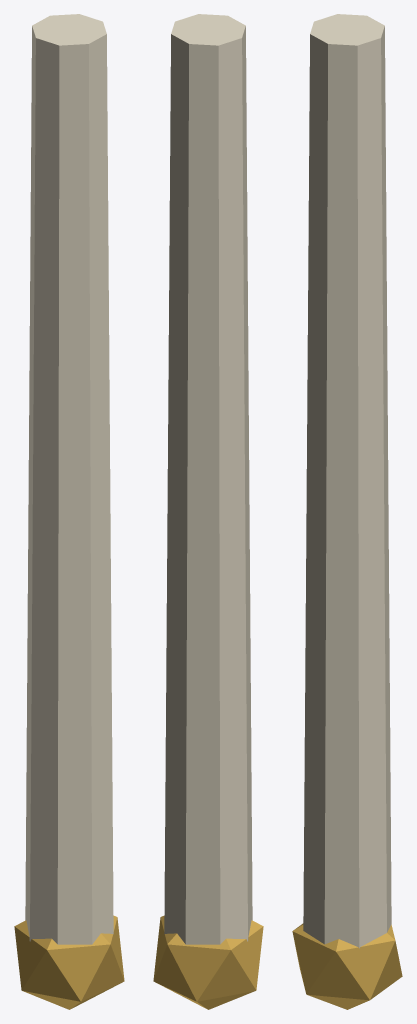
Rendered from wk_skeleton_spine_v01.glb.
3 renders of one model, left to right at view 1: azimuth 30°, elevation 25°; view 2: azimuth 150°, elevation 25°; view 3: azimuth 330°, elevation 25°, orthographic.
Visible parts, largest first — view 1: GEO_Skeleton_spine, GEO_Skeleton_spine_Joint; view 2: GEO_Skeleton_spine, GEO_Skeleton_spine_Joint; view 3: GEO_Skeleton_spine, GEO_Skeleton_spine_Joint.
Boxes of the visible parts, <box> form: GEO_Skeleton_spine: <box>25,14,113,944</box>; GEO_Skeleton_spine_Joint: <box>14,915,124,1009</box>; GEO_Skeleton_spine: <box>164,14,252,944</box>; GEO_Skeleton_spine_Joint: <box>153,915,263,1009</box>; GEO_Skeleton_spine: <box>303,14,391,948</box>; GEO_Skeleton_spine_Joint: <box>292,923,402,1009</box>.
Size of the model in its own units: 0.1087 by 1.06 by 0.1034.
